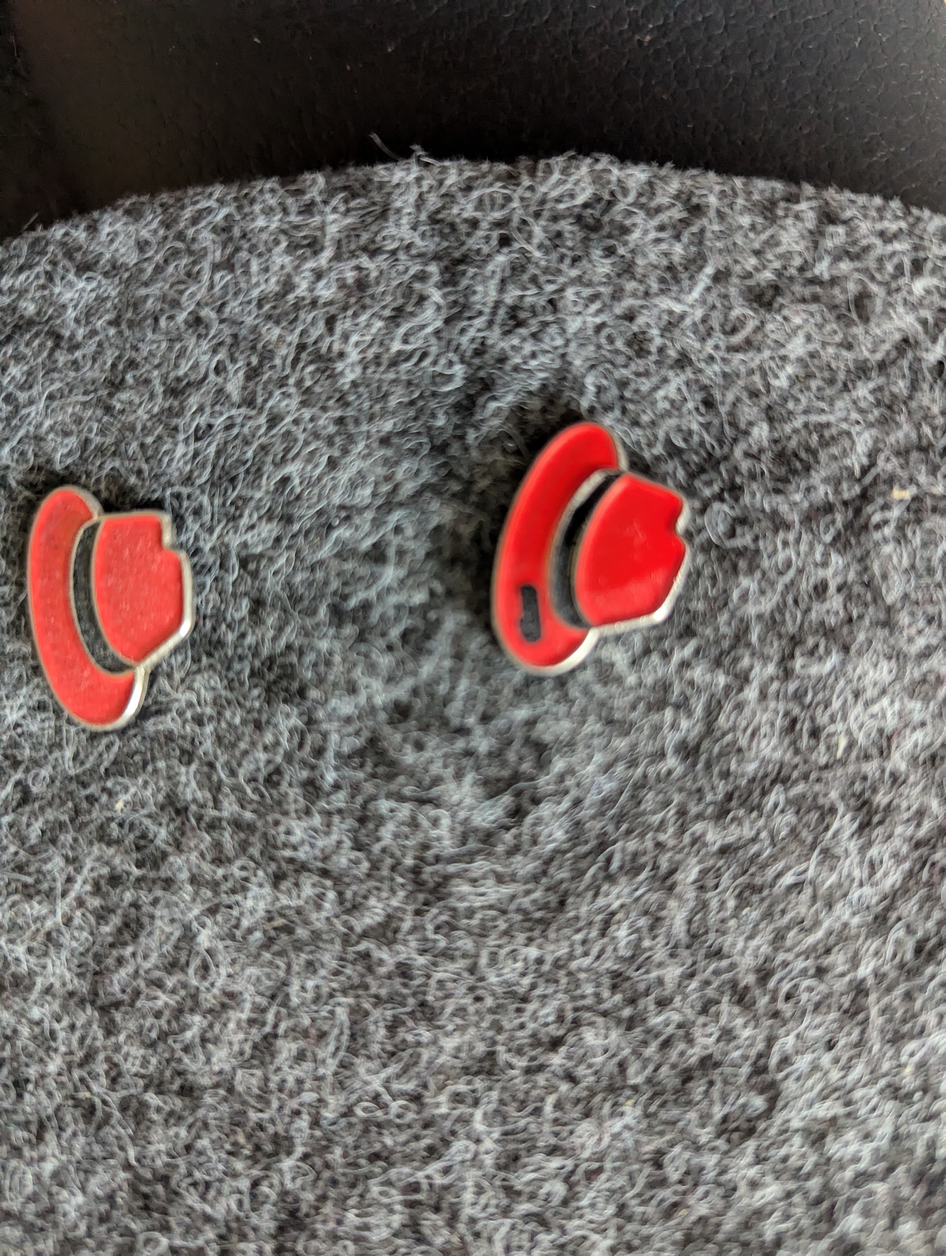Red-Hat: (460, 385, 707, 690), (5, 467, 219, 760)
Scratch: (505, 573, 553, 654)
